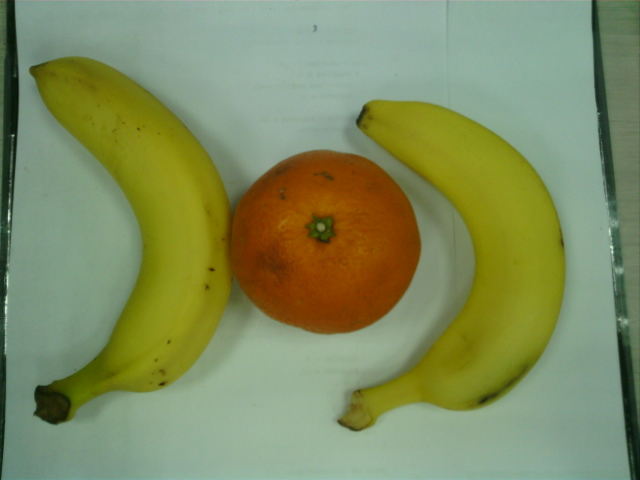normal_banana: (339, 101, 565, 426), (28, 56, 226, 418)
normal_orange: (232, 148, 421, 336)
